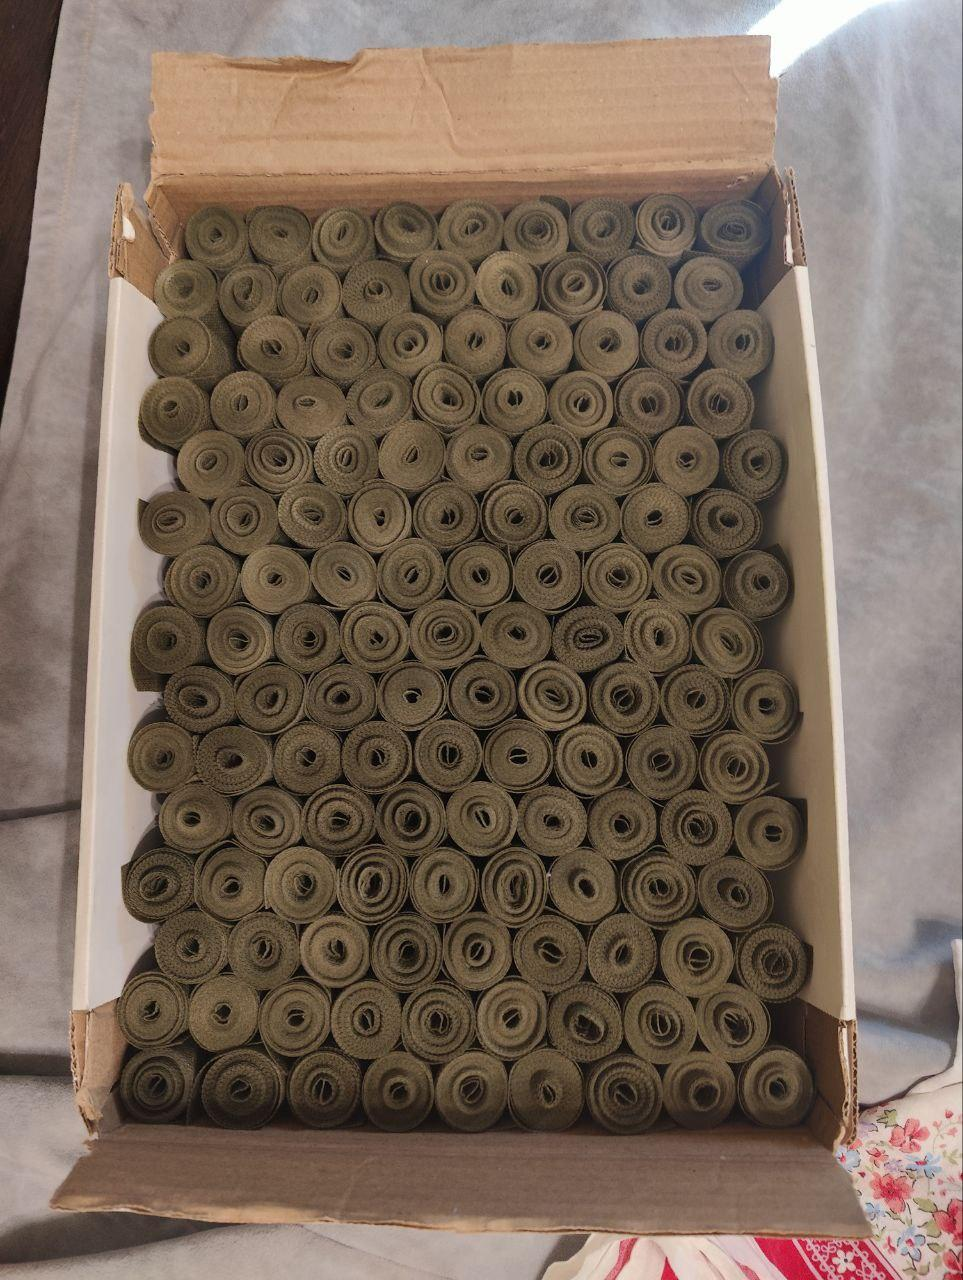roll: (196, 1043, 285, 1132), (506, 1045, 589, 1135), (584, 1048, 666, 1137), (284, 1046, 367, 1133), (116, 1040, 199, 1127), (432, 1048, 514, 1136), (735, 1042, 816, 1131), (543, 979, 626, 1065), (656, 914, 737, 1001), (621, 980, 702, 1067), (358, 1047, 439, 1134), (193, 840, 273, 927), (255, 976, 337, 1060), (327, 977, 408, 1062), (658, 1048, 738, 1133), (261, 841, 342, 925), (400, 980, 480, 1064), (472, 976, 552, 1061), (224, 907, 303, 992), (693, 981, 773, 1066), (128, 601, 207, 687), (119, 843, 200, 926), (185, 971, 265, 1054), (149, 905, 228, 988), (584, 910, 662, 994), (336, 842, 414, 926), (616, 846, 695, 928), (155, 779, 235, 858), (543, 845, 622, 926), (193, 722, 274, 801), (508, 912, 587, 993), (694, 851, 773, 932), (114, 967, 193, 1047), (406, 843, 483, 925), (440, 910, 517, 992), (656, 785, 733, 866), (124, 717, 201, 799), (734, 921, 811, 1003), (731, 792, 807, 875), (299, 781, 378, 859), (164, 540, 242, 620), (148, 311, 228, 389), (623, 723, 700, 804), (368, 912, 445, 993), (228, 781, 305, 859), (295, 909, 373, 988), (270, 720, 347, 800), (476, 845, 551, 927), (159, 660, 238, 737), (688, 603, 765, 681), (584, 785, 660, 864), (727, 665, 802, 746), (443, 781, 520, 858), (697, 729, 774, 807), (551, 722, 627, 801), (585, 659, 661, 738), (376, 418, 451, 497), (372, 782, 449, 858), (231, 660, 309, 736), (202, 601, 278, 678), (137, 375, 212, 453), (375, 658, 452, 734), (172, 428, 248, 505), (621, 599, 696, 676), (339, 718, 415, 794), (481, 718, 556, 795), (413, 716, 488, 793), (516, 784, 591, 860), (407, 595, 481, 671), (648, 540, 723, 617), (272, 601, 346, 678), (443, 422, 517, 499), (515, 657, 591, 732), (237, 541, 313, 616), (689, 485, 764, 561), (375, 538, 449, 615), (659, 662, 732, 739), (718, 545, 792, 622), (445, 655, 520, 730), (511, 536, 586, 611), (207, 486, 282, 561), (303, 659, 379, 733), (337, 598, 411, 673), (546, 480, 620, 556), (341, 256, 415, 332), (477, 600, 552, 673), (308, 538, 381, 613), (242, 426, 316, 500), (237, 312, 311, 387), (138, 486, 212, 560), (697, 197, 772, 271), (581, 539, 653, 615), (443, 539, 516, 614), (478, 478, 551, 553), (511, 422, 584, 496), (207, 368, 280, 443), (671, 253, 743, 328), (649, 423, 721, 498), (684, 365, 756, 441), (618, 482, 691, 556), (478, 365, 550, 440), (505, 308, 577, 383), (549, 604, 624, 675), (410, 479, 481, 553), (272, 372, 346, 444), (581, 425, 652, 498), (613, 365, 685, 439), (407, 248, 478, 322), (345, 479, 415, 555), (705, 306, 775, 382), (718, 427, 787, 504), (411, 360, 483, 433), (374, 309, 445, 383), (309, 317, 379, 391), (311, 425, 381, 498), (276, 480, 350, 551), (473, 248, 544, 322), (442, 306, 511, 382), (544, 367, 615, 440), (603, 252, 674, 325), (567, 194, 639, 265), (574, 308, 642, 382), (539, 252, 609, 324), (638, 306, 708, 378), (436, 196, 507, 266), (501, 197, 571, 268), (246, 202, 315, 274), (347, 366, 416, 437), (183, 202, 252, 273), (633, 190, 702, 261), (277, 262, 345, 333), (311, 203, 378, 274), (373, 200, 440, 267), (216, 263, 281, 332), (153, 258, 221, 321), (355, 864, 389, 903)
